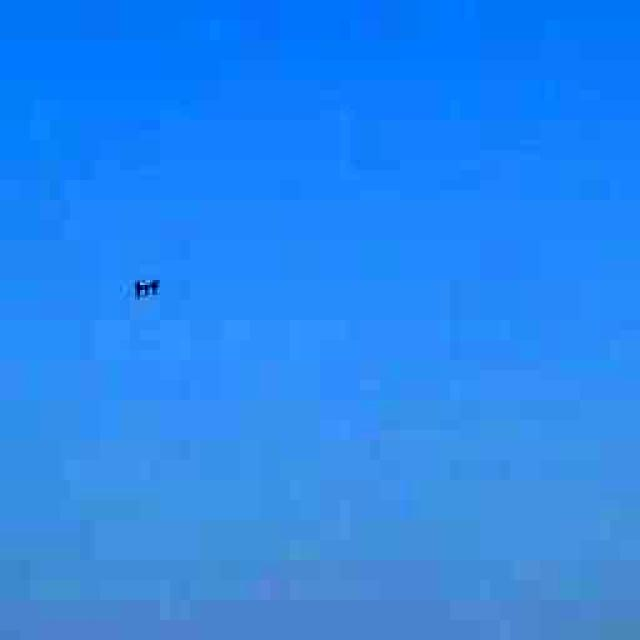bird: (119, 256, 171, 316)
